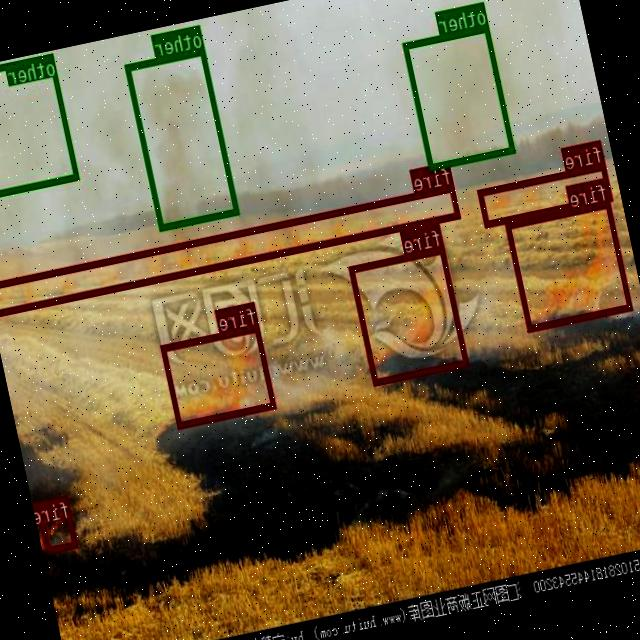fire: (0, 183, 461, 315), (506, 198, 633, 330), (350, 245, 470, 384), (162, 323, 276, 428), (478, 163, 612, 225), (36, 494, 78, 552)
